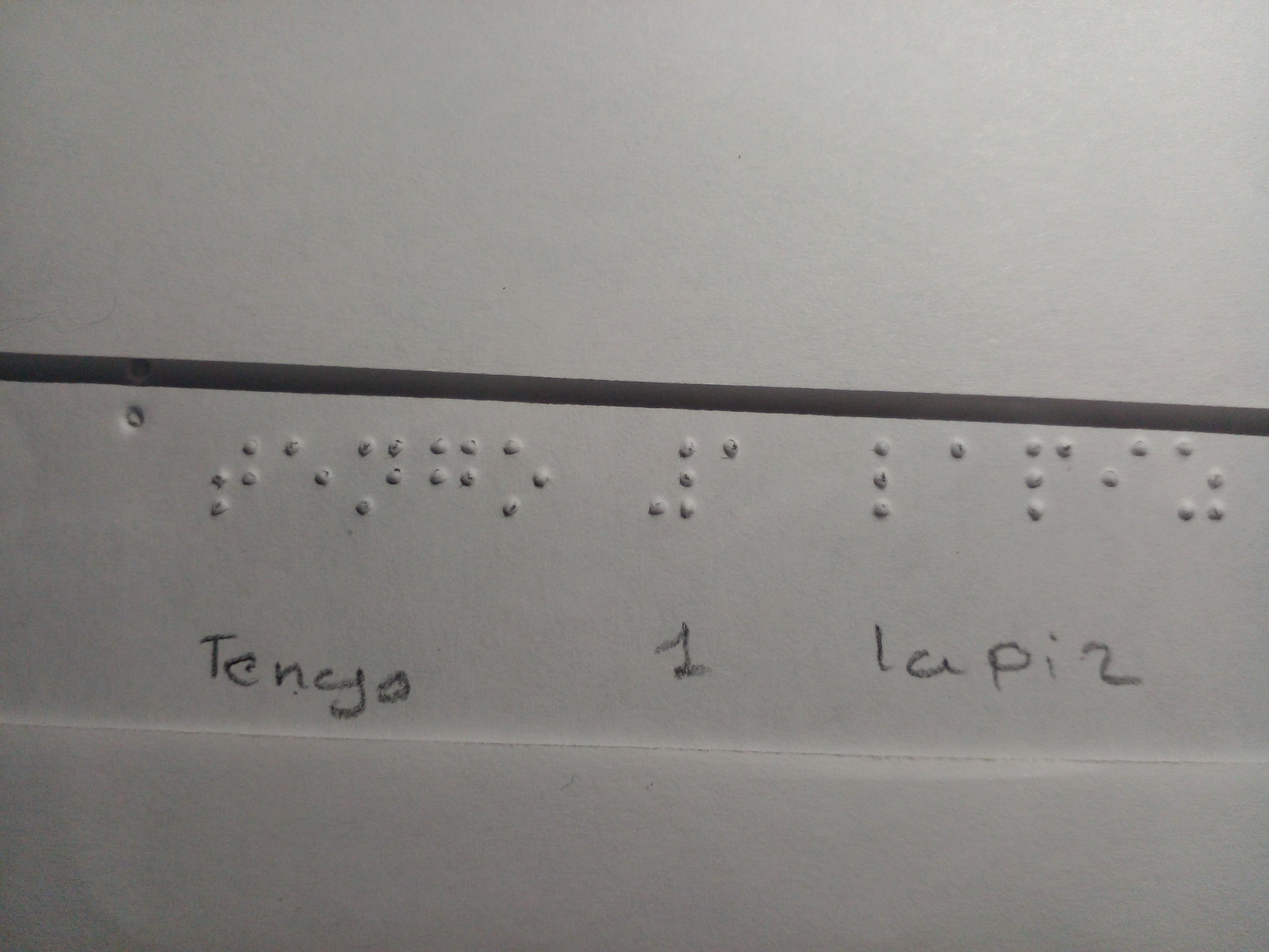01: (637, 431, 747, 525)
a: (939, 434, 984, 474)
e: (279, 431, 341, 514)
g: (418, 431, 488, 502)
i: (1091, 434, 1157, 494)
l: (863, 431, 909, 533)
n: (349, 434, 406, 539)
o: (496, 432, 555, 521)
p: (1012, 439, 1080, 536)
t: (203, 423, 268, 522)
z: (1162, 437, 1244, 541)
